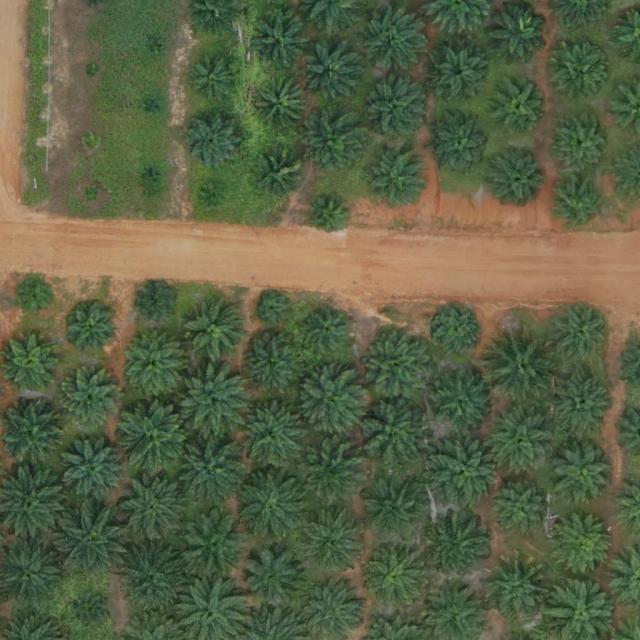Healthy: (54, 504, 132, 583), (118, 398, 196, 477), (115, 541, 193, 620), (169, 429, 247, 508), (235, 467, 313, 546), (360, 326, 438, 405), (353, 395, 431, 474), (428, 435, 506, 514), (484, 326, 562, 405), (482, 403, 560, 482), (233, 400, 311, 478), (60, 436, 130, 507), (178, 366, 248, 437), (179, 511, 249, 582), (238, 546, 308, 617), (178, 107, 248, 177), (117, 472, 187, 542), (296, 368, 366, 438), (297, 438, 367, 508), (362, 10, 425, 73), (249, 8, 312, 71), (362, 78, 425, 141), (365, 147, 428, 210), (57, 369, 120, 432), (122, 333, 185, 396), (240, 334, 303, 397), (365, 543, 428, 606), (432, 515, 495, 578), (489, 558, 552, 621), (552, 375, 615, 438), (552, 442, 615, 505), (487, 2, 550, 64), (304, 113, 366, 176), (489, 147, 552, 209), (185, 300, 247, 363), (365, 480, 427, 543), (431, 370, 493, 433), (554, 515, 616, 578), (432, 115, 494, 177), (553, 113, 615, 175), (550, 303, 612, 365), (430, 48, 485, 103), (305, 49, 360, 104), (256, 79, 311, 134), (494, 79, 549, 134), (4, 335, 59, 390), (66, 303, 121, 358), (304, 515, 359, 570), (555, 48, 609, 103), (553, 178, 607, 233), (495, 484, 549, 539), (436, 306, 483, 354), (260, 152, 307, 199), (305, 308, 352, 355)
Small: (189, 51, 244, 107), (309, 198, 349, 237), (136, 284, 175, 324), (17, 280, 56, 319), (73, 595, 112, 634), (258, 295, 289, 326), (203, 183, 227, 207), (85, 65, 101, 80), (85, 187, 100, 203), (147, 99, 163, 114), (143, 167, 158, 183), (147, 43, 162, 58), (83, 135, 98, 150)
